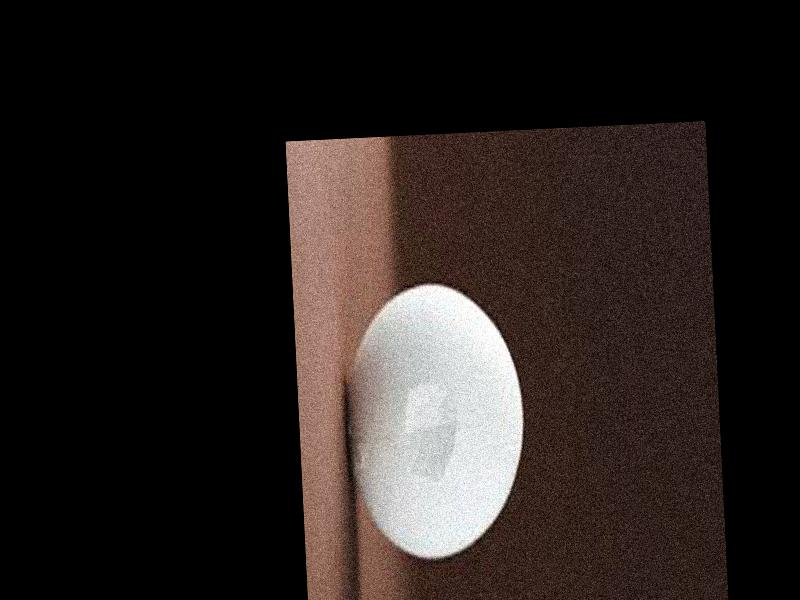Eggs: (339, 280, 529, 558)
